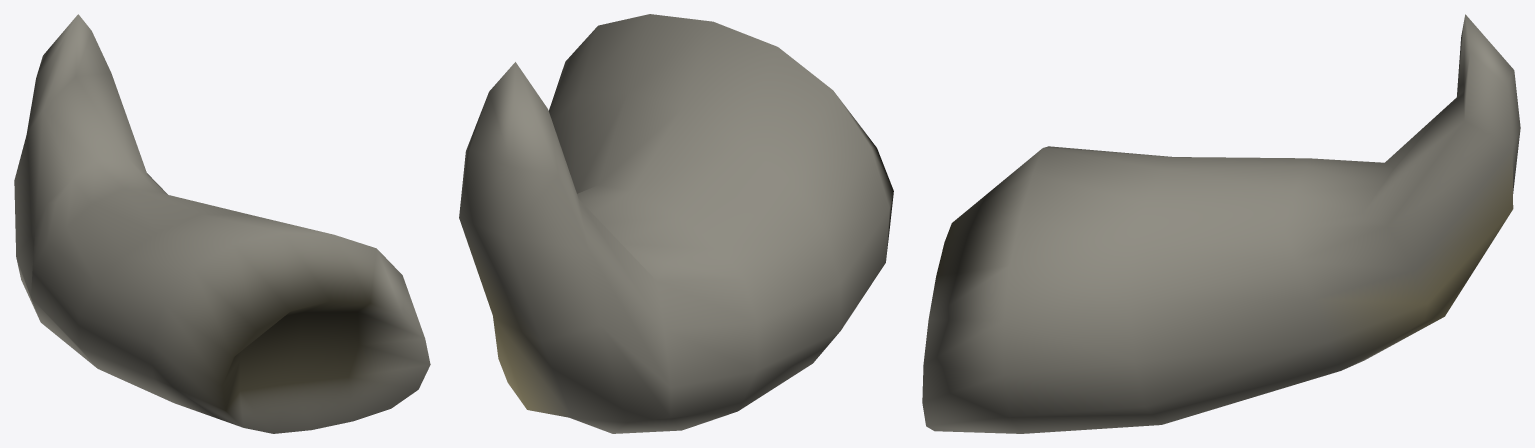
Rendered from Shell.fbx.
3 views of the same model, side by side, from view 1: azimuth 30°, elevation 25°; view 2: azimuth 150°, elevation 25°; view 3: azimuth 270°, elevation 25° (orthographic). The views are drawn at different scales.
Parts seen in each view (by area): view 1: Shell; view 2: Shell; view 3: Shell.
Part boxes in pixels (x1,y1,x2,y2): Shell: (14, 14, 430, 433); Shell: (459, 14, 893, 433); Shell: (922, 14, 1520, 433).
Size of the model in its own units: 315 by 328 by 487.
